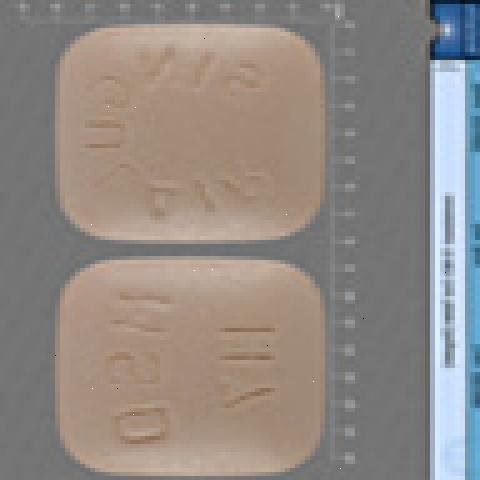Pill: (24, 24, 370, 252), (35, 251, 362, 478)
